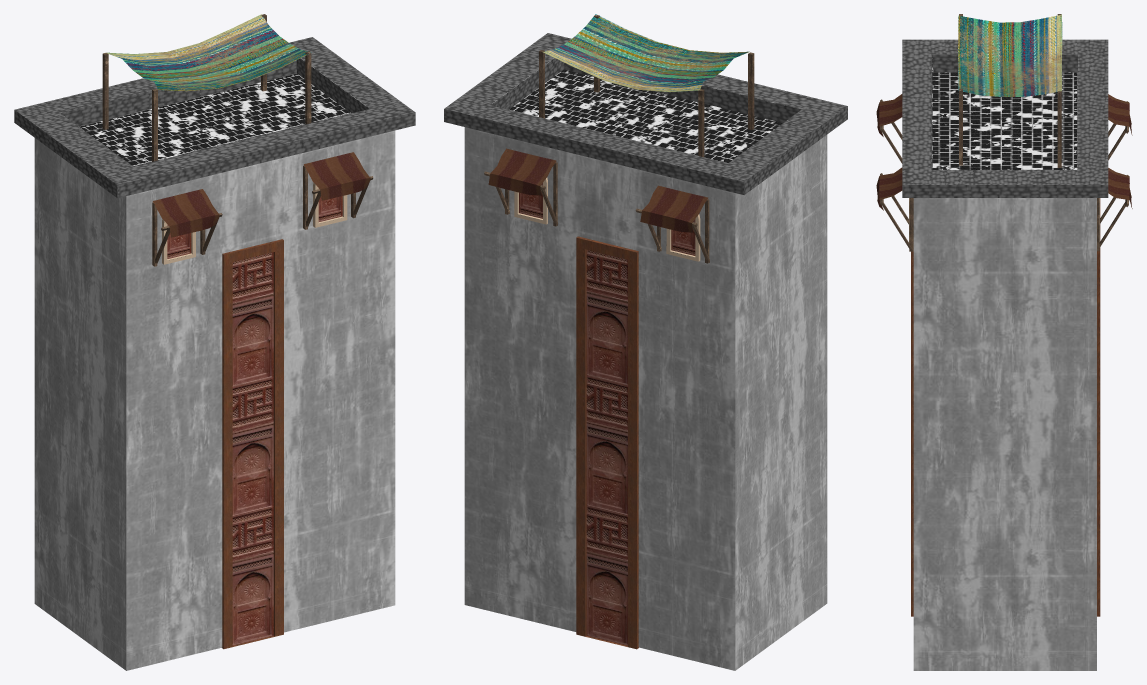
File: medina_cityscape_daar_6.gltf
The picture shows the model from 3 angles, left to right: view 1: azimuth 30°, elevation 25°; view 2: azimuth 150°, elevation 25°; view 3: azimuth 270°, elevation 25°; orthographic projection.
Parts seen in each view (by area): view 1: medina_cityscape_daar_6; view 2: medina_cityscape_daar_6; view 3: medina_cityscape_daar_6.
Part boxes in pixels (box(x1,y1,x2,y2)): medina_cityscape_daar_6: box(14, 14, 415, 670); medina_cityscape_daar_6: box(444, 14, 847, 670); medina_cityscape_daar_6: box(876, 14, 1132, 670).
Size of the model in its own units: 5.29 by 9.37 by 3.94.
5 materials, 5 textured.
